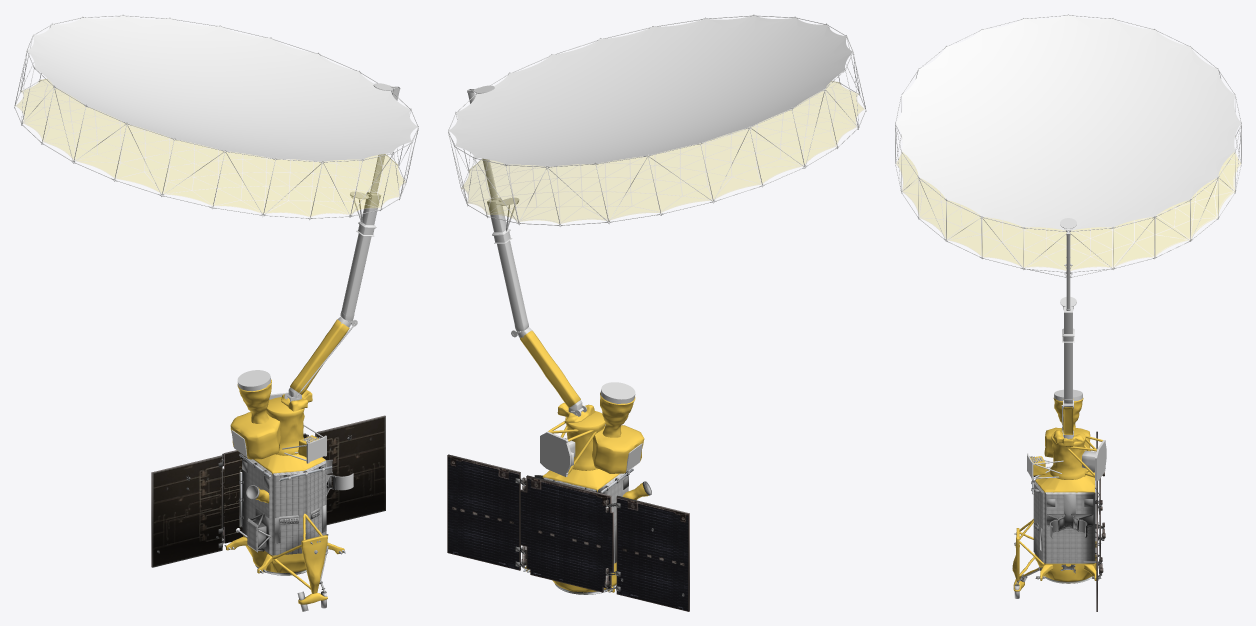
Rendered from SMAP.glb.
3 renders of one model, left to right at view 1: azimuth 30°, elevation 25°; view 2: azimuth 150°, elevation 25°; view 3: azimuth 270°, elevation 25°, orthographic. The views are drawn at different scales.
Visible parts, largest first — view 1: antenna_03, antenna_01, array, antenna_03.001, arm_etc.001, body.000, arm_etc, body.003; view 2: antenna_03, array.001, antenna_01, antenna_03.001, arm_etc.001, arm_etc, body.003, body.000, array; view 3: antenna_03, antenna_03.001, antenna_01, arm_etc.001, body.000, arm_etc, body.003, array.
Part boxes in pixels (bbox=[...]): antenna_03: bbox=[27, 15, 417, 161]; antenna_01: bbox=[16, 79, 405, 216]; array: bbox=[151, 415, 385, 567]; antenna_03.001: bbox=[31, 18, 411, 159]; arm_etc.001: bbox=[14, 14, 418, 463]; body.000: bbox=[157, 435, 353, 611]; arm_etc: bbox=[230, 319, 349, 459]; body.003: bbox=[226, 453, 344, 604]; antenna_03: bbox=[449, 15, 852, 166]; array.001: bbox=[447, 455, 688, 611]; antenna_01: bbox=[461, 81, 864, 223]; antenna_03.001: bbox=[457, 18, 848, 165]; arm_etc.001: bbox=[448, 14, 866, 476]; arm_etc: bbox=[520, 330, 644, 473]; body.003: bbox=[524, 469, 648, 592]; body.000: bbox=[523, 468, 684, 596]; array: bbox=[447, 454, 689, 611]; antenna_03: bbox=[896, 15, 1240, 230]; antenna_03.001: bbox=[902, 17, 1237, 229]; antenna_01: bbox=[896, 153, 1240, 270]; arm_etc.001: bbox=[895, 14, 1241, 480]; body.000: bbox=[1014, 468, 1104, 598]; arm_etc: bbox=[1030, 398, 1102, 479]; body.003: bbox=[1012, 469, 1096, 591]; array: bbox=[1096, 431, 1105, 611].
Bounding box in the file's own units: 6.42 × 9.52 × 6.19.
Materials: 9 (8 with a texture image).
